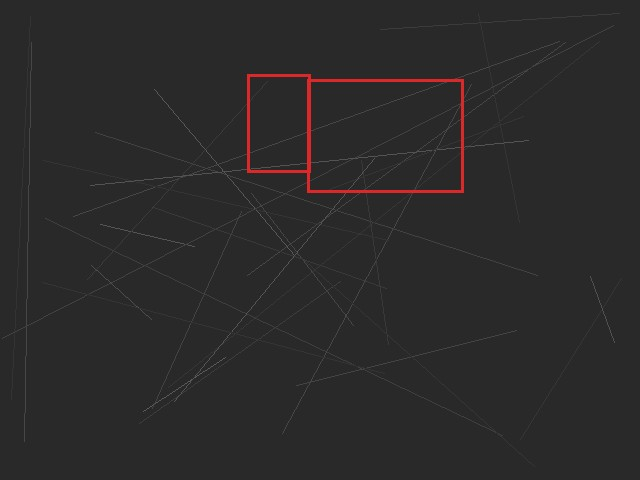D40: (307, 79, 463, 192), (247, 74, 310, 172)
